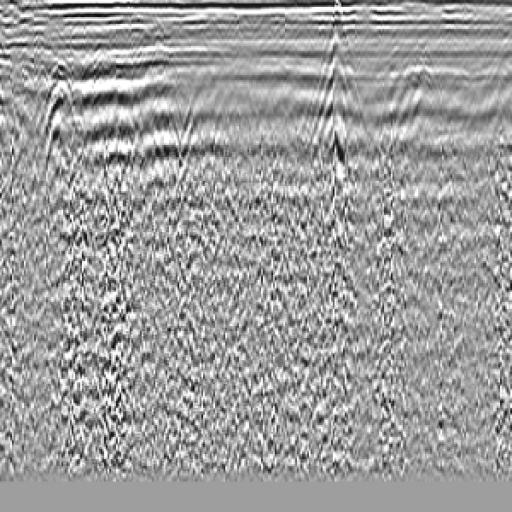metalic: (298, 13, 379, 267)
